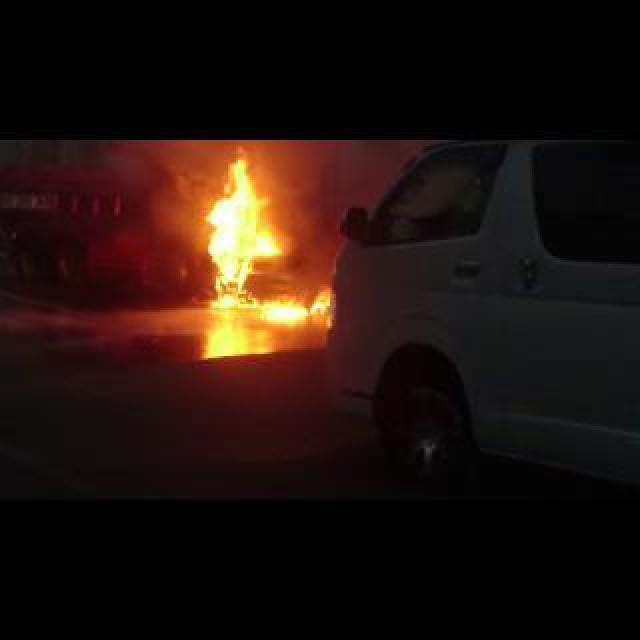Fire: (204, 158, 280, 306), (264, 288, 334, 322)
